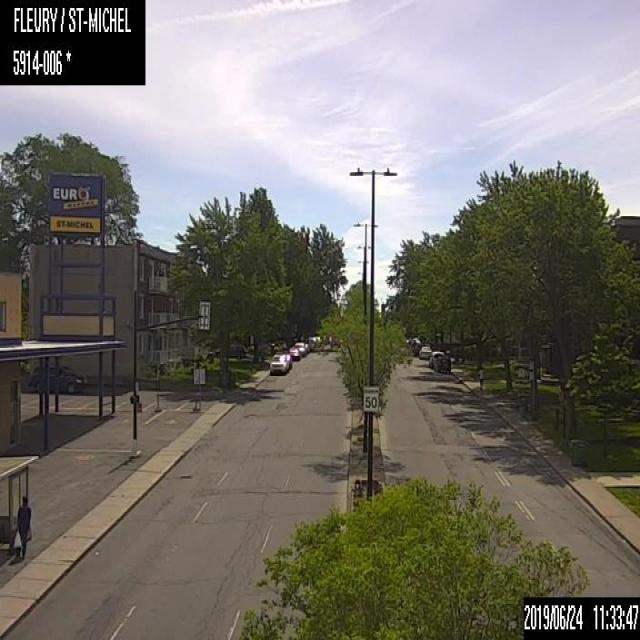pedestrian: (13, 494, 31, 559), (477, 364, 484, 393)
vehicle: (28, 364, 87, 394), (269, 353, 288, 374), (433, 354, 450, 373), (428, 349, 443, 368), (418, 345, 432, 359), (288, 345, 300, 361), (406, 336, 420, 349), (281, 351, 291, 369), (294, 341, 305, 356), (303, 341, 309, 352)
